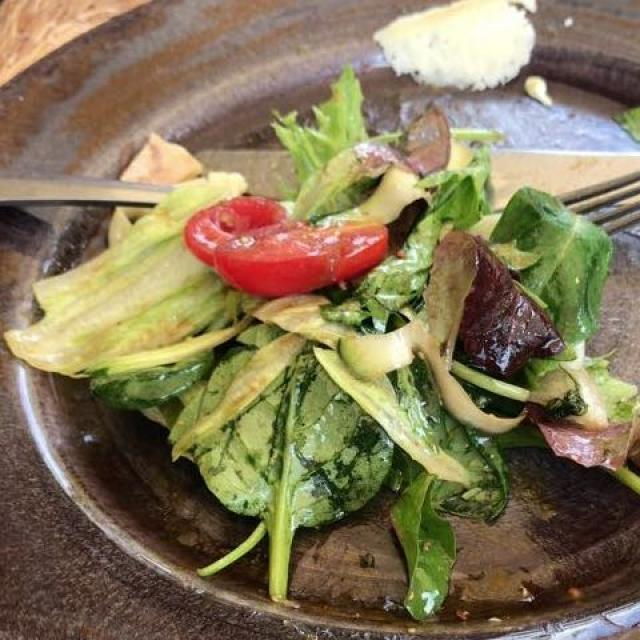salad: (26, 90, 623, 603)
tomato: (196, 194, 388, 307)
